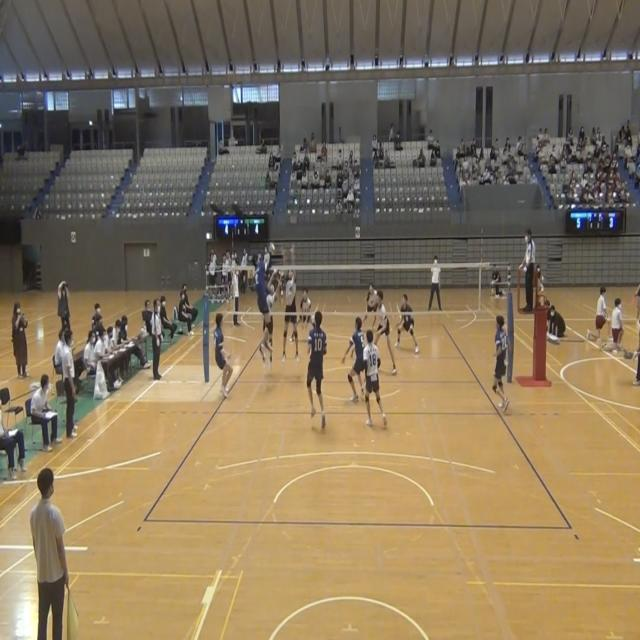spike: (249, 237, 281, 366)
